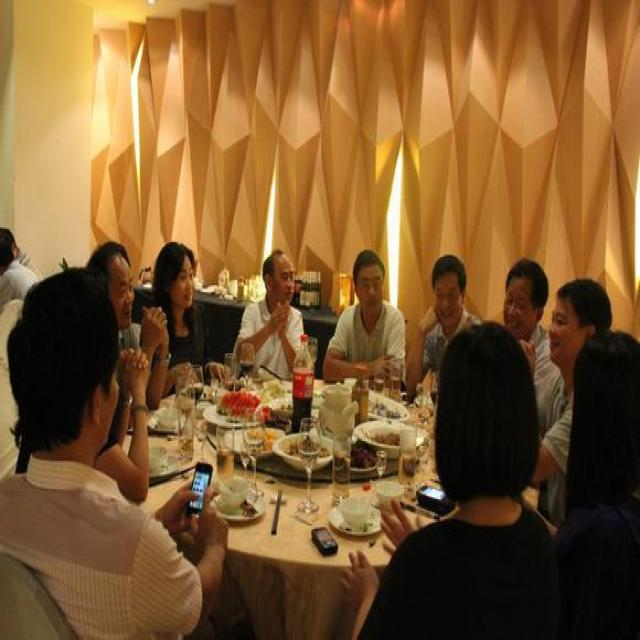no_helmet: (13, 270, 118, 464), (440, 313, 538, 504), (560, 327, 639, 492), (544, 264, 606, 368), (496, 256, 550, 346), (88, 239, 134, 330), (150, 240, 194, 317), (346, 247, 390, 318), (426, 255, 468, 325), (258, 247, 297, 305)
